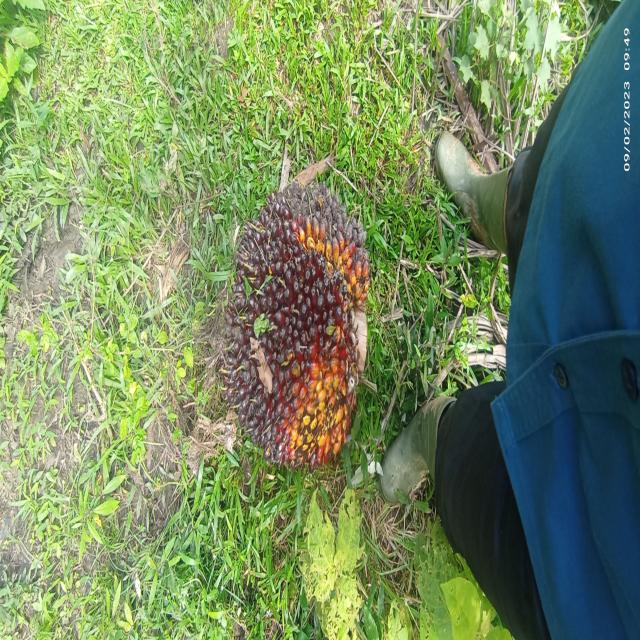fraksi 1: (185, 174, 383, 468)
